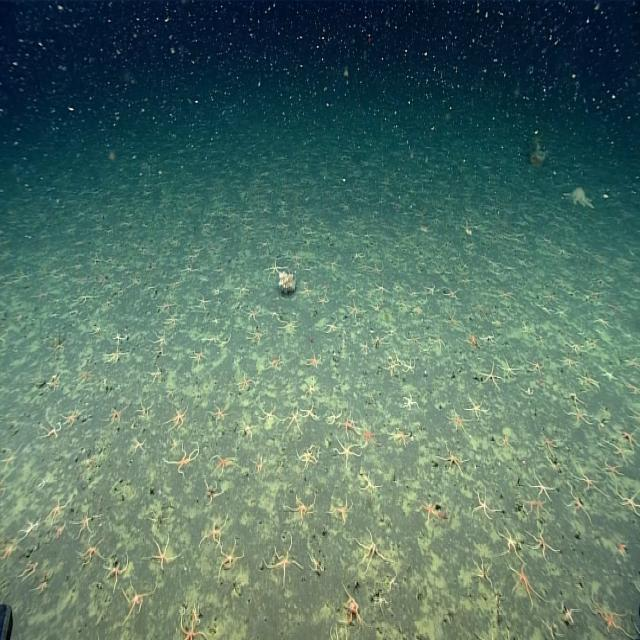brittle-stars: (262, 532, 300, 586), (507, 556, 542, 610), (592, 594, 630, 639), (124, 579, 156, 622), (338, 586, 369, 628), (215, 538, 247, 578), (176, 600, 207, 640), (528, 516, 554, 562), (201, 515, 230, 556), (148, 536, 181, 572), (104, 548, 133, 588), (72, 507, 106, 540), (531, 464, 557, 507), (329, 492, 356, 533), (167, 442, 199, 476), (359, 527, 389, 563), (471, 487, 498, 525), (500, 524, 530, 558), (520, 489, 549, 524), (566, 478, 588, 524), (165, 398, 191, 436), (468, 558, 497, 592), (417, 492, 444, 528), (336, 439, 363, 473), (76, 534, 105, 565), (574, 464, 602, 495), (361, 470, 384, 507), (535, 427, 562, 458), (482, 360, 504, 398), (286, 492, 315, 520), (617, 483, 640, 518), (446, 405, 470, 438), (598, 455, 622, 488), (563, 372, 584, 409), (49, 518, 75, 547), (390, 420, 416, 449), (41, 362, 63, 396), (619, 416, 640, 451), (19, 513, 44, 542), (60, 400, 80, 436), (358, 421, 382, 450), (467, 390, 488, 423), (528, 353, 550, 384), (147, 328, 173, 354), (195, 481, 224, 504), (212, 450, 238, 475), (280, 314, 304, 341), (285, 399, 302, 437), (608, 431, 628, 463), (298, 440, 320, 469), (42, 420, 66, 446), (568, 397, 588, 428), (343, 402, 360, 438), (442, 448, 467, 472), (502, 358, 522, 388), (560, 348, 578, 381), (1, 536, 16, 575), (478, 321, 498, 350), (329, 399, 346, 432), (20, 551, 40, 579), (130, 432, 150, 460), (137, 397, 155, 428), (104, 400, 125, 426), (248, 318, 267, 346), (402, 388, 423, 413), (596, 368, 622, 388), (46, 495, 66, 520), (236, 368, 256, 393), (248, 451, 266, 478), (76, 367, 96, 391), (108, 340, 123, 372), (312, 548, 326, 582), (210, 397, 229, 422), (33, 576, 54, 598), (260, 403, 280, 426), (302, 374, 322, 397), (320, 318, 341, 339), (192, 341, 208, 368), (302, 400, 318, 427), (398, 354, 418, 375), (164, 312, 186, 331), (318, 288, 334, 313), (148, 363, 166, 385), (430, 332, 447, 354), (444, 284, 461, 304), (466, 330, 480, 354), (241, 305, 263, 320), (268, 354, 284, 374), (266, 256, 282, 276), (344, 277, 361, 295), (348, 302, 367, 318), (78, 289, 98, 303), (239, 417, 252, 438), (593, 312, 611, 326), (383, 326, 401, 340), (386, 355, 396, 379), (196, 296, 209, 314), (326, 256, 341, 271), (371, 260, 383, 278), (427, 284, 440, 300), (376, 279, 390, 293), (499, 289, 515, 301), (158, 297, 172, 310), (311, 350, 325, 362), (361, 340, 369, 359), (352, 251, 362, 261), (292, 251, 300, 261)
